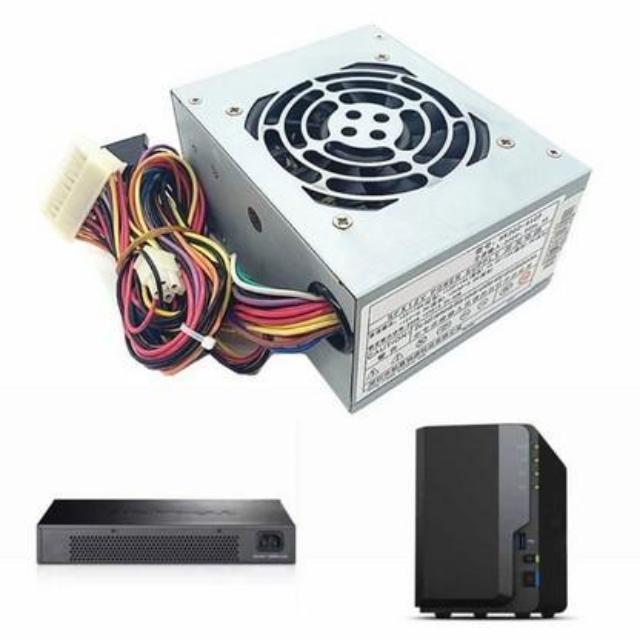PSU: (162, 12, 618, 412)
